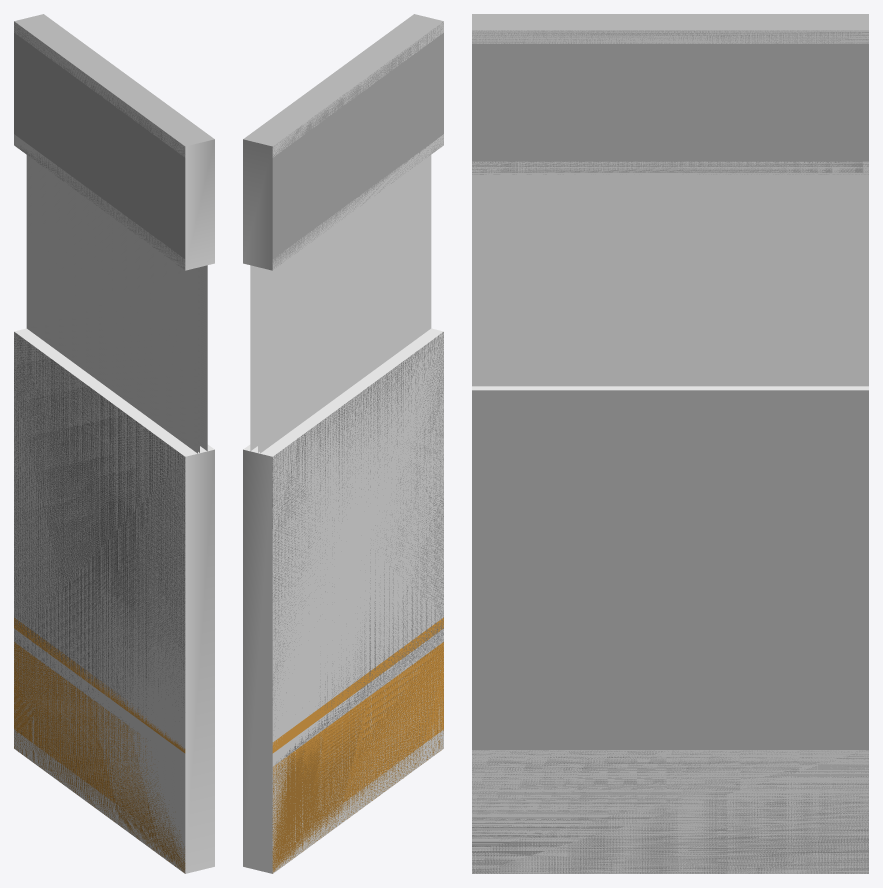
Rendered from s_wh_wall_window_4m.dae.
3 renders of one model, left to right at view 1: azimuth 30°, elevation 25°; view 2: azimuth 150°, elevation 25°; view 3: azimuth 270°, elevation 25°, orthographic. The views are drawn at different scales.
Visible parts, largest first — view 1: s_wh_wall_window_4m_L50, Colmesh_s_wh_wall_window_4m-1, s_wh_wall_window_4m_L25; view 2: s_wh_wall_window_4m_L50, Colmesh_s_wh_wall_window_4m-1, s_wh_wall_window_4m_L25; view 3: s_wh_wall_window_4m_L50, Colmesh_s_wh_wall_window_4m-1, s_wh_wall_window_4m_L25.
Boxes of the visible parts, box(x1,y1,x2,y2) form: s_wh_wall_window_4m_L50: box(14, 14, 214, 873); Colmesh_s_wh_wall_window_4m-1: box(14, 22, 214, 873); s_wh_wall_window_4m_L25: box(14, 333, 185, 873); s_wh_wall_window_4m_L50: box(243, 14, 443, 873); Colmesh_s_wh_wall_window_4m-1: box(243, 22, 443, 873); s_wh_wall_window_4m_L25: box(272, 332, 443, 872); s_wh_wall_window_4m_L50: box(472, 14, 868, 873); Colmesh_s_wh_wall_window_4m-1: box(472, 30, 868, 873); s_wh_wall_window_4m_L25: box(472, 750, 868, 873).
Size of the model in its own units: 0.4001 by 4 by 9.38.
